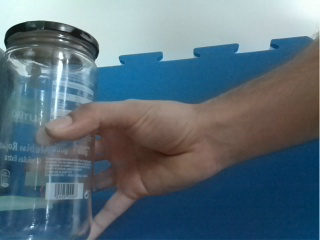pote cristal: (1, 21, 101, 240)
